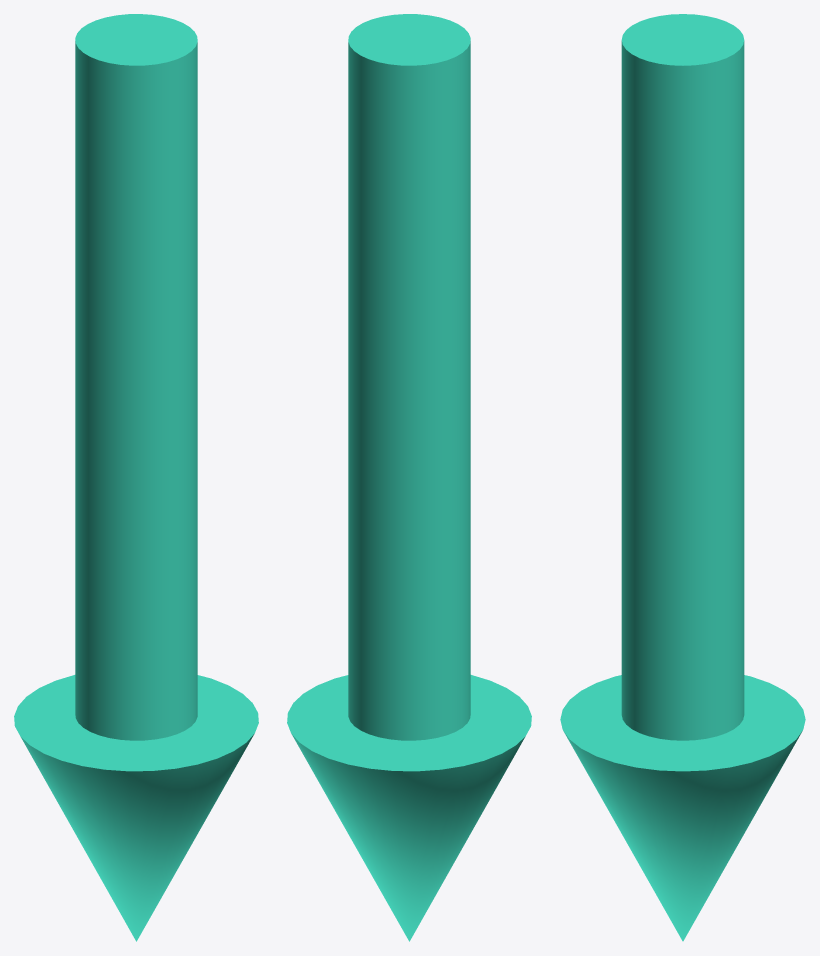
The model's file is Arrow1.gltf.
3 renders of one model, left to right at view 1: azimuth 30°, elevation 25°; view 2: azimuth 150°, elevation 25°; view 3: azimuth 270°, elevation 25°, orthographic.
Visible parts, largest first — view 1: Cylinder, Cone; view 2: Cylinder, Cone; view 3: Cylinder, Cone.
Boxes of the visible parts, <box> form: Cylinder: <box>75,14,197,740</box>; Cone: <box>14,675,258,941</box>; Cylinder: <box>348,14,470,740</box>; Cone: <box>287,675,531,941</box>; Cylinder: <box>621,14,744,740</box>; Cone: <box>560,675,805,941</box>.
Bounding box in the file's own units: 0.4 × 1.62 × 0.4.
